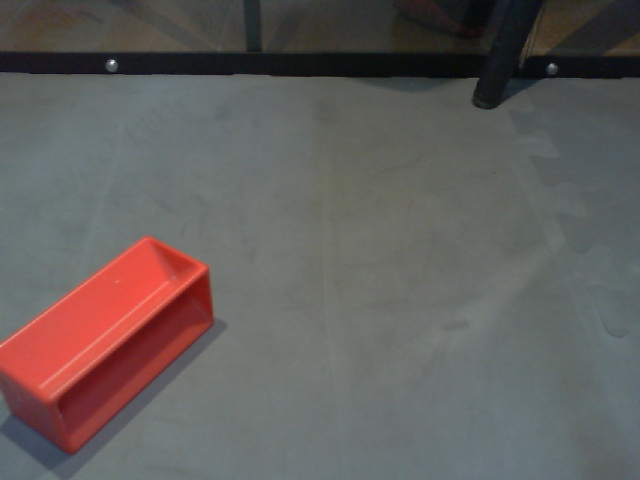RedSample: (1, 234, 215, 456)
